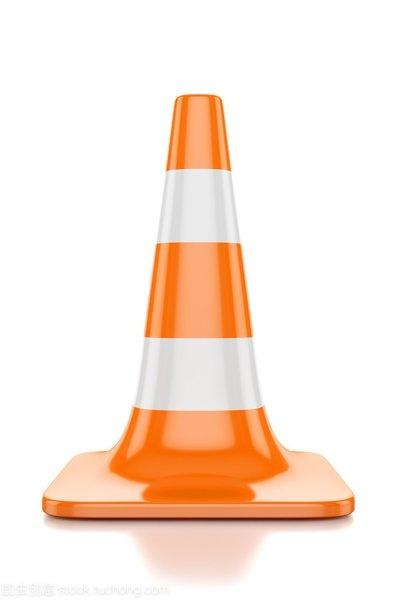cone_barrel: (99, 97, 300, 489)
